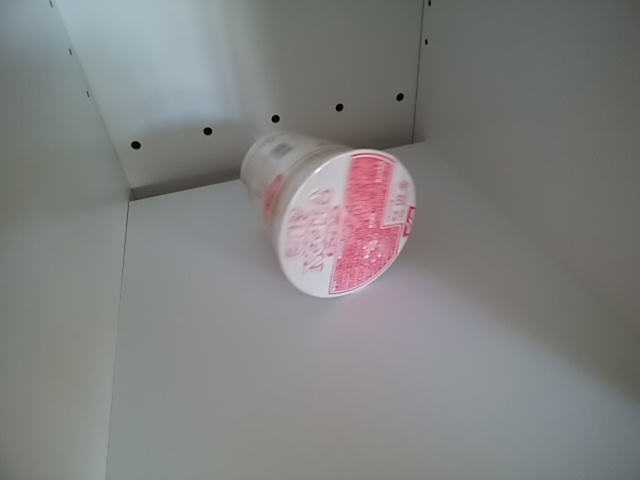cup-ramen: (236, 126, 427, 303)
